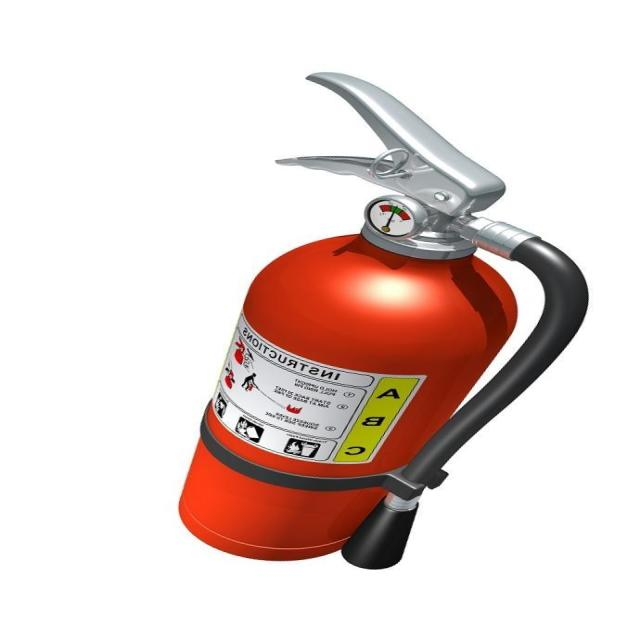fire_extinguisher: (172, 68, 590, 573)
